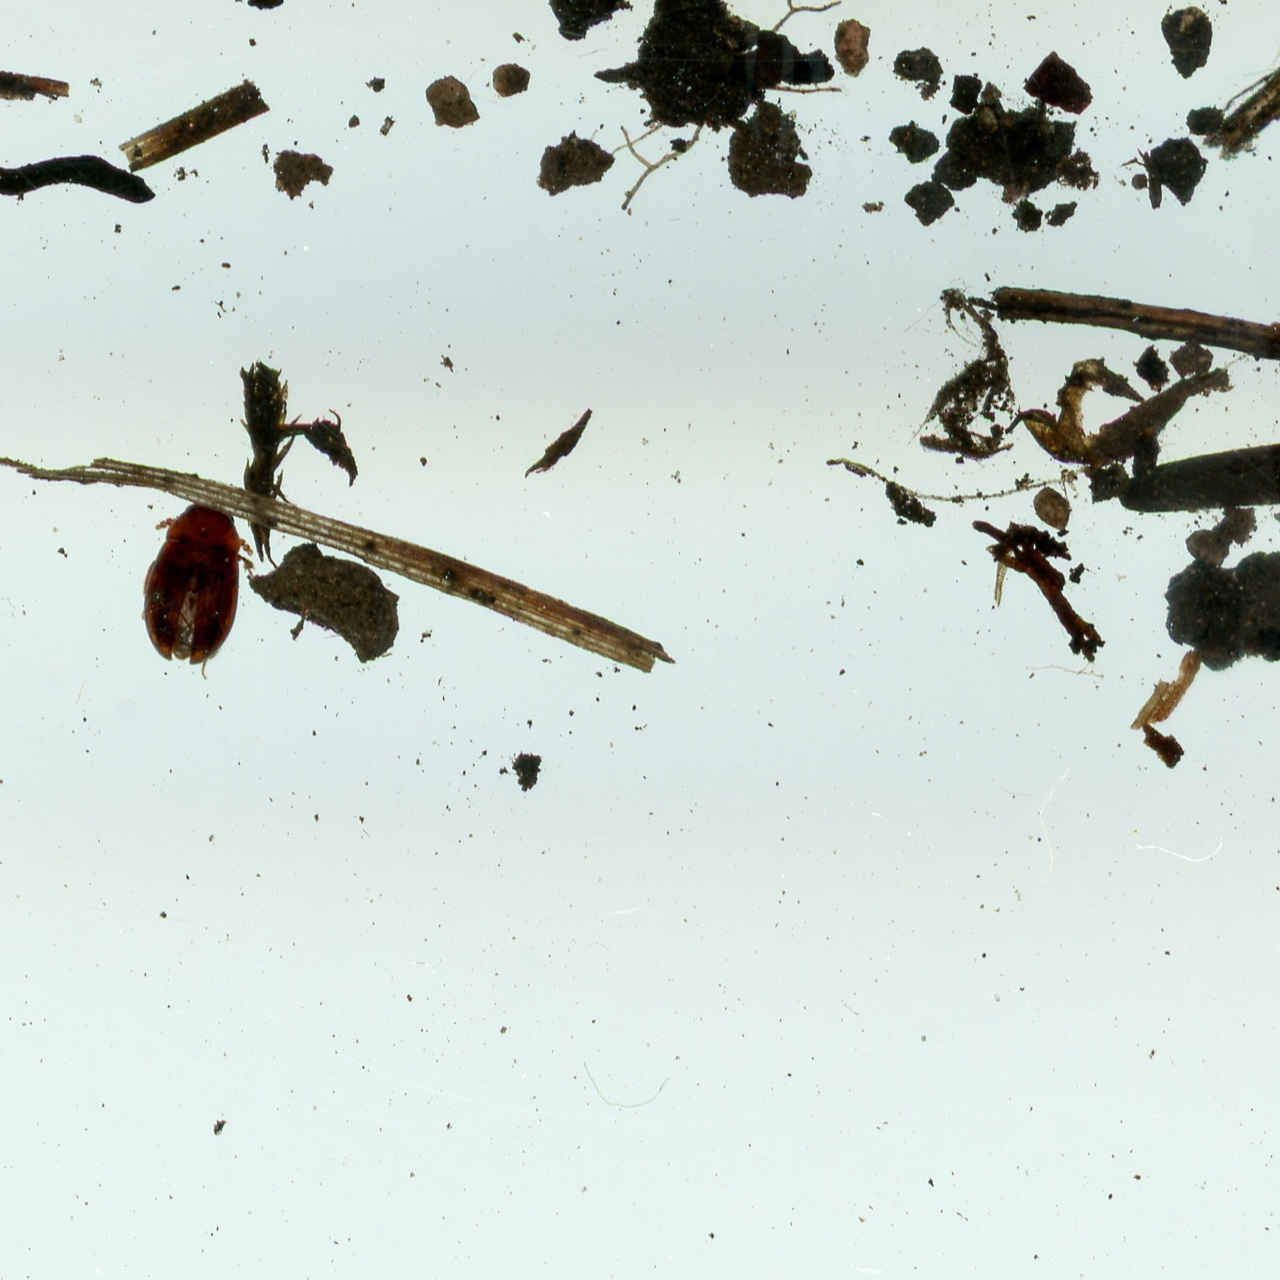arthropod: (115, 489, 274, 690)
